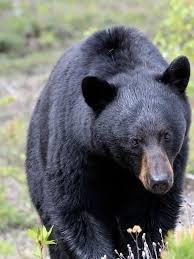bear: (25, 25, 191, 259)
